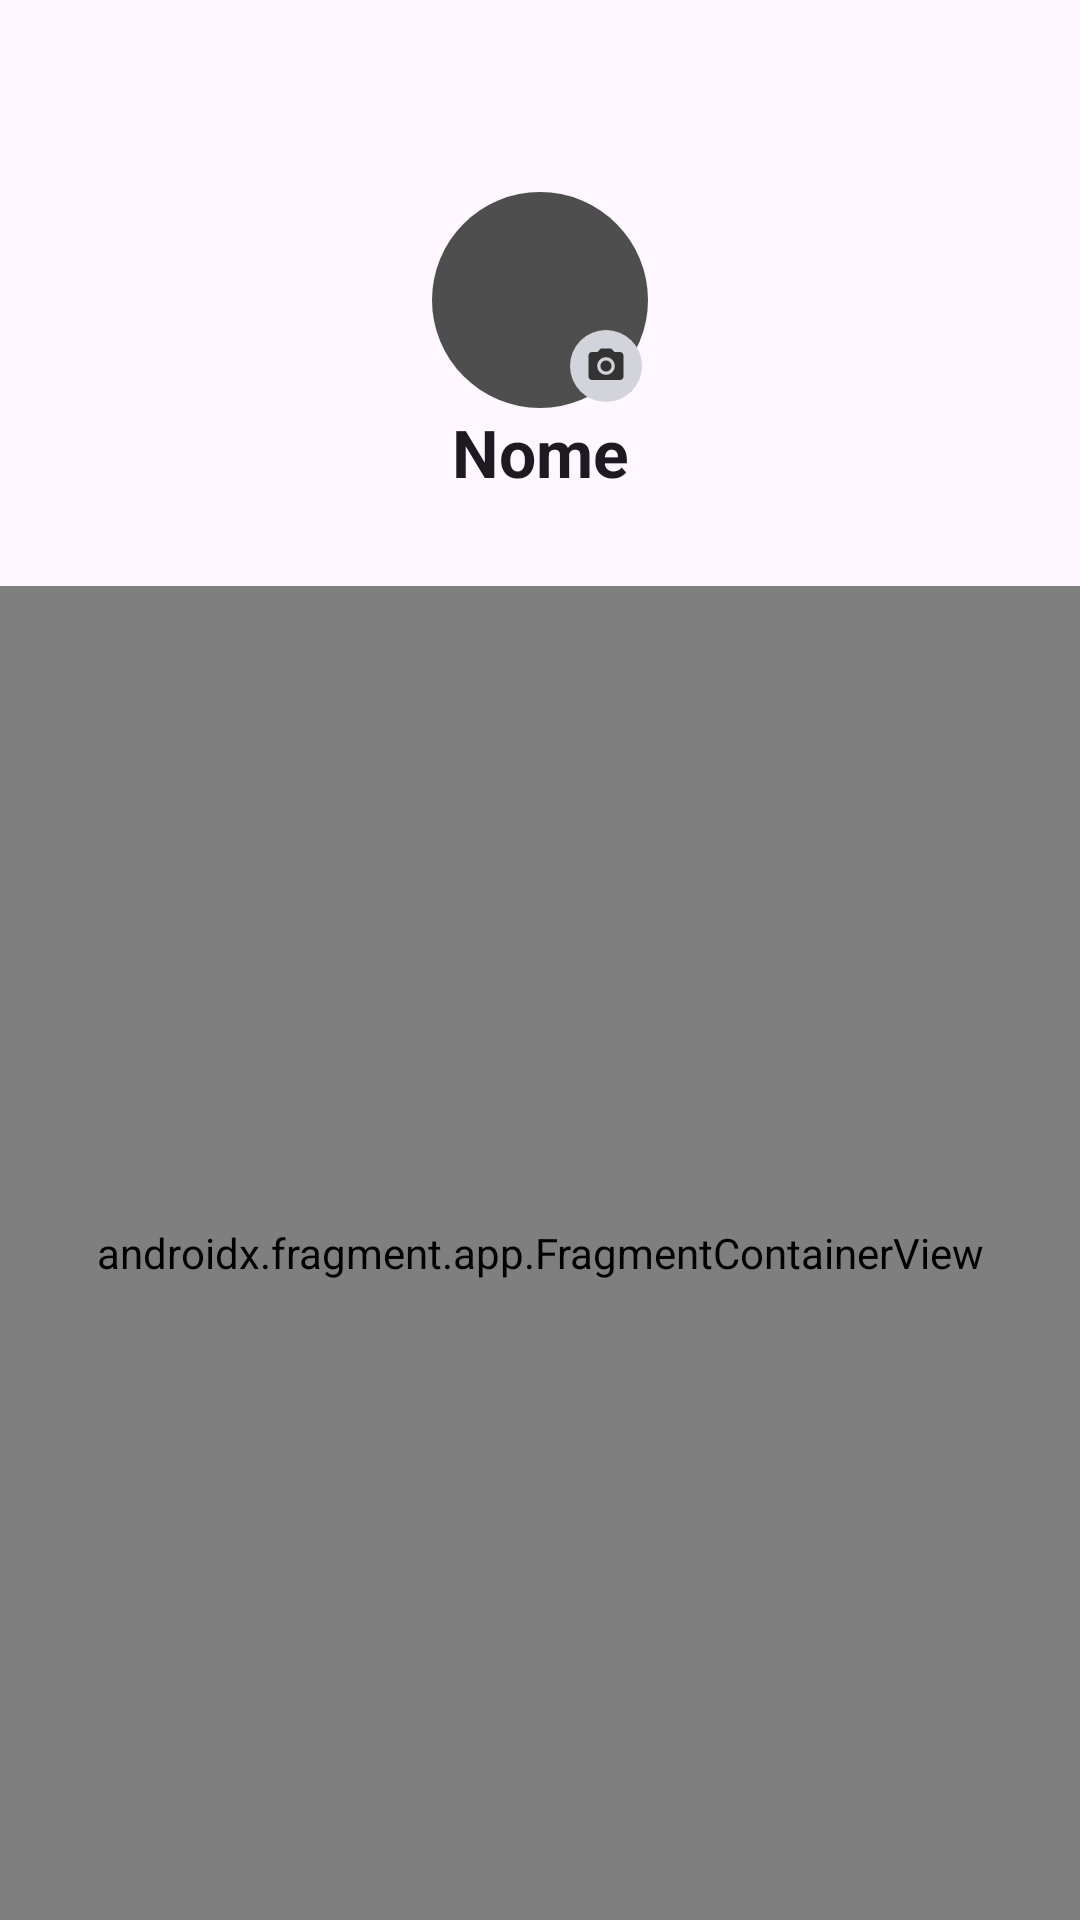

Icon click points for this 1080*1920 phone screenshot, format (x,y):
camera: (606,366)
